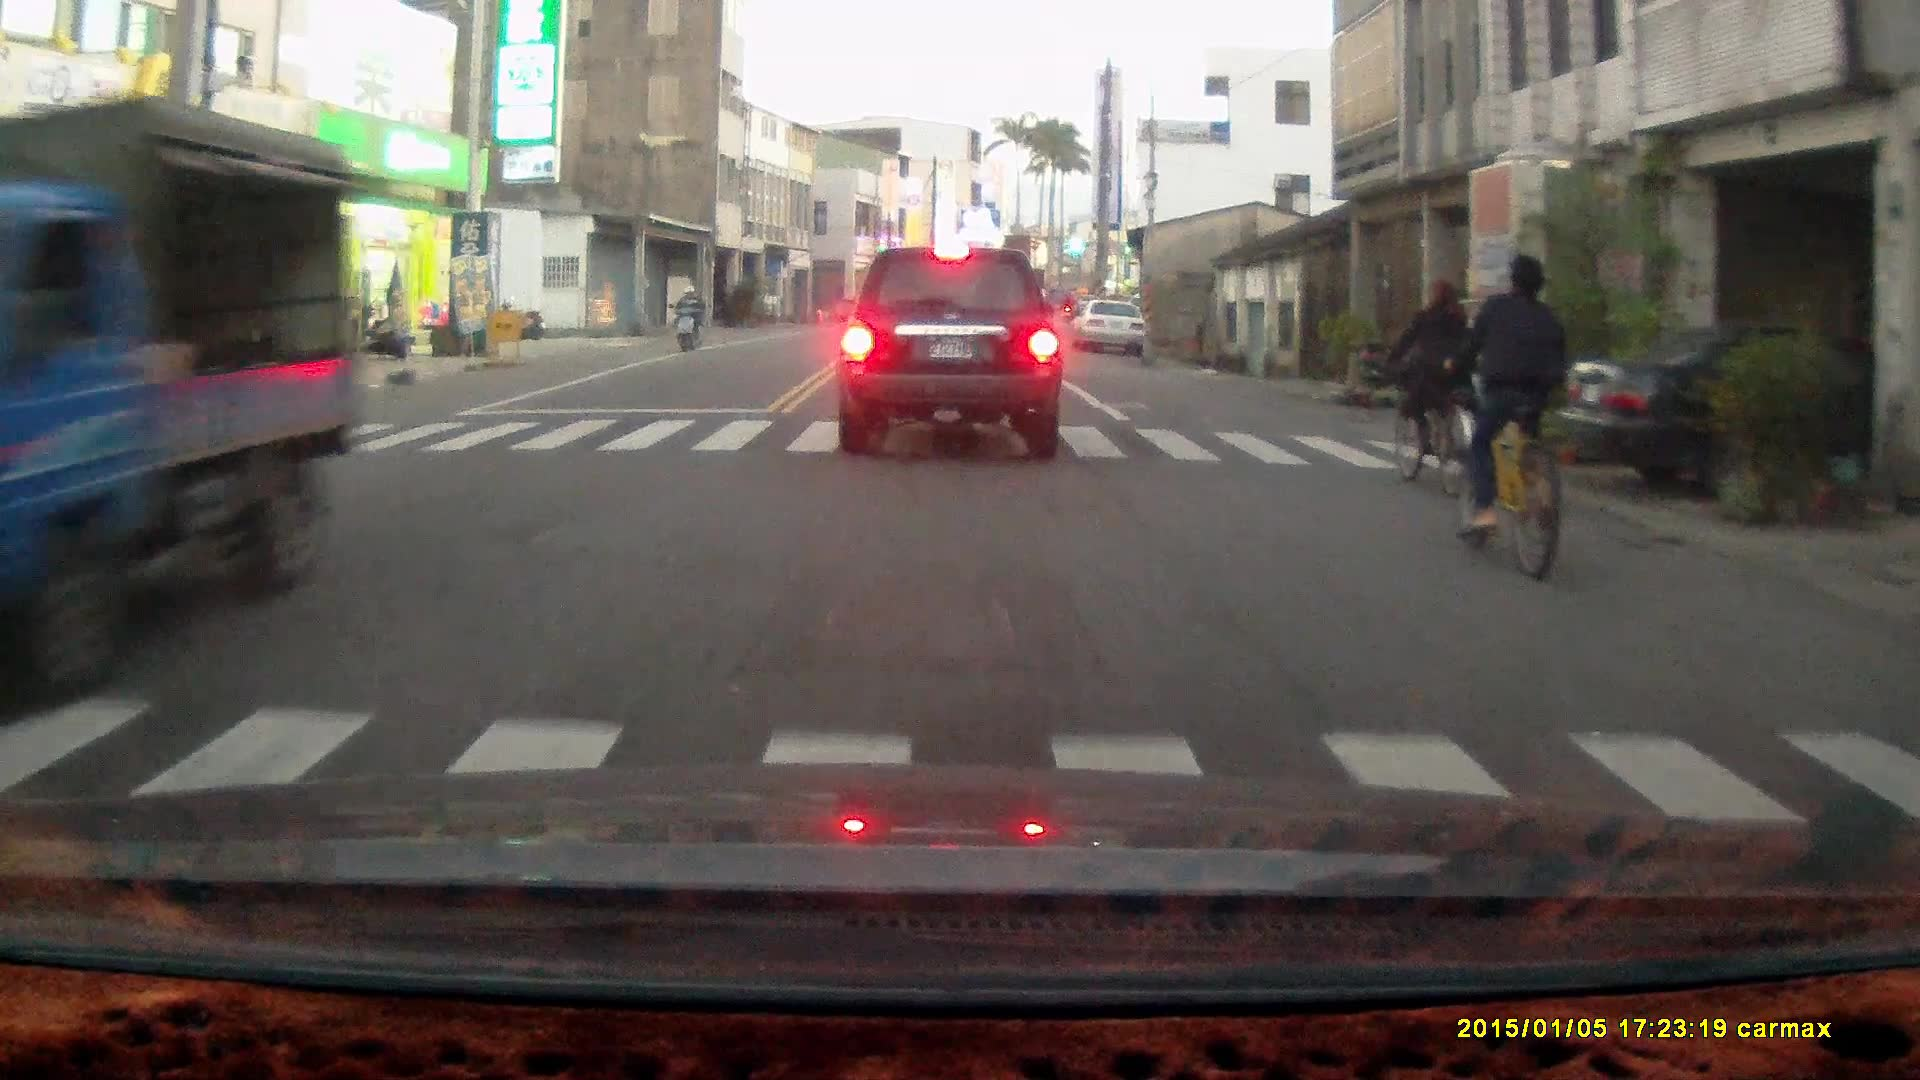rider: (1436, 252, 1565, 584), (1384, 278, 1475, 502), (671, 281, 703, 355)
vehicle: (1, 100, 349, 679), (1556, 319, 1920, 506), (832, 246, 1067, 459), (1075, 300, 1150, 359)
